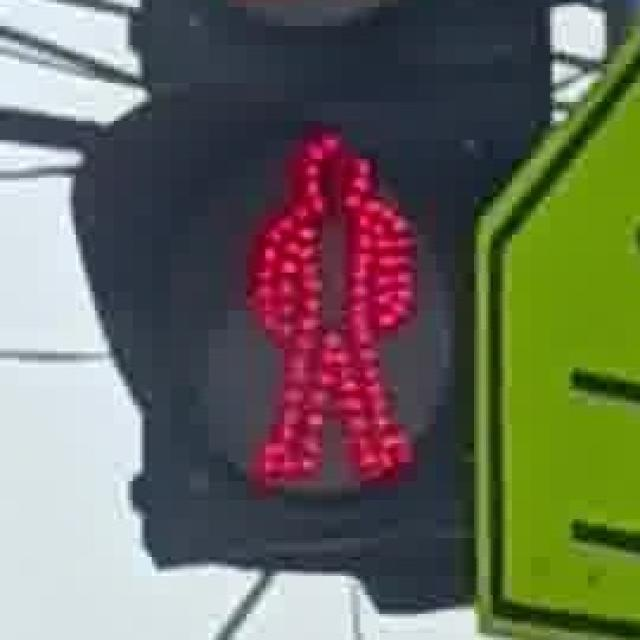red-crossing: (213, 109, 436, 506)
